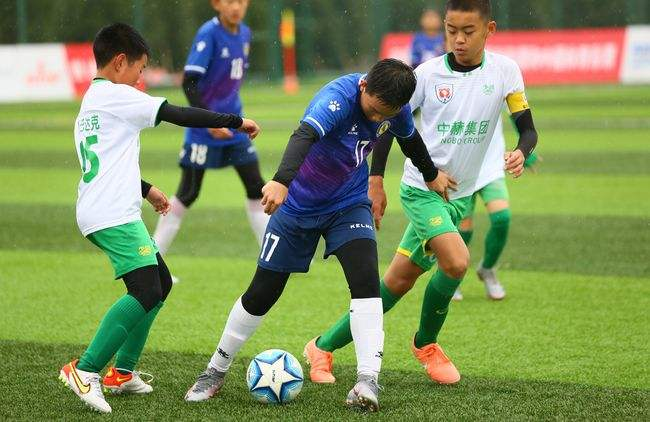football: (245, 349, 305, 405)
